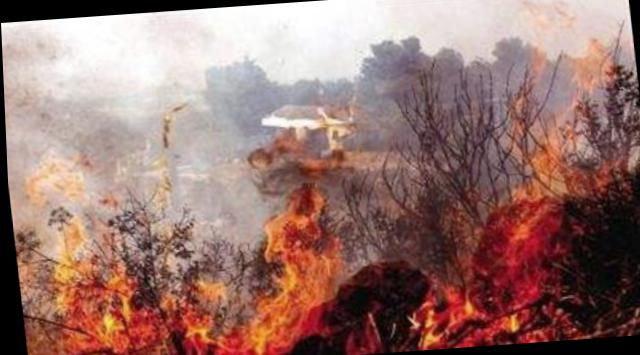fire: (7, 47, 640, 354)
